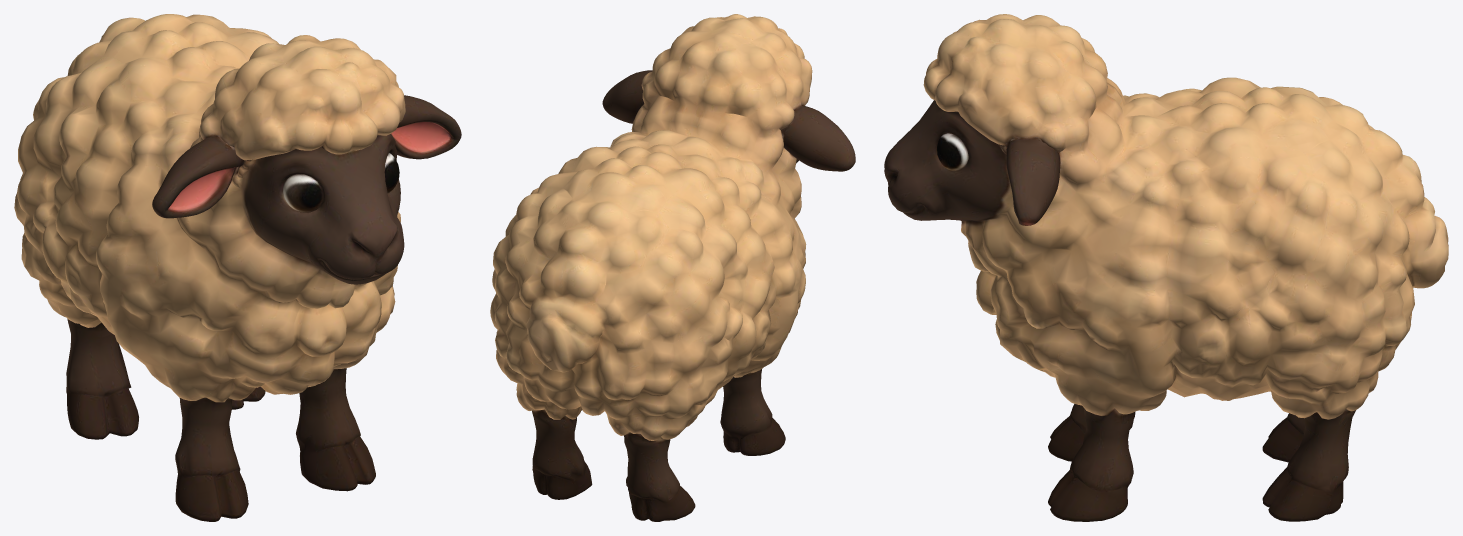
Rendered from sheep.glb.
The picture shows the model from 3 angles, left to right: view 1: azimuth 30°, elevation 25°; view 2: azimuth 150°, elevation 25°; view 3: azimuth 270°, elevation 25°; orthographic projection. The views are drawn at different scales.
Parts seen in each view (by area): view 1: sheep; view 2: sheep; view 3: sheep.
Part boxes in pixels (x1,y1,x2,y2): sheep: [14, 14, 461, 521]; sheep: [490, 14, 855, 521]; sheep: [884, 14, 1448, 521].
Bounding box in the file's own units: 0.604 × 0.897 × 0.9995.
Materials: 1 (1 with a texture image).
